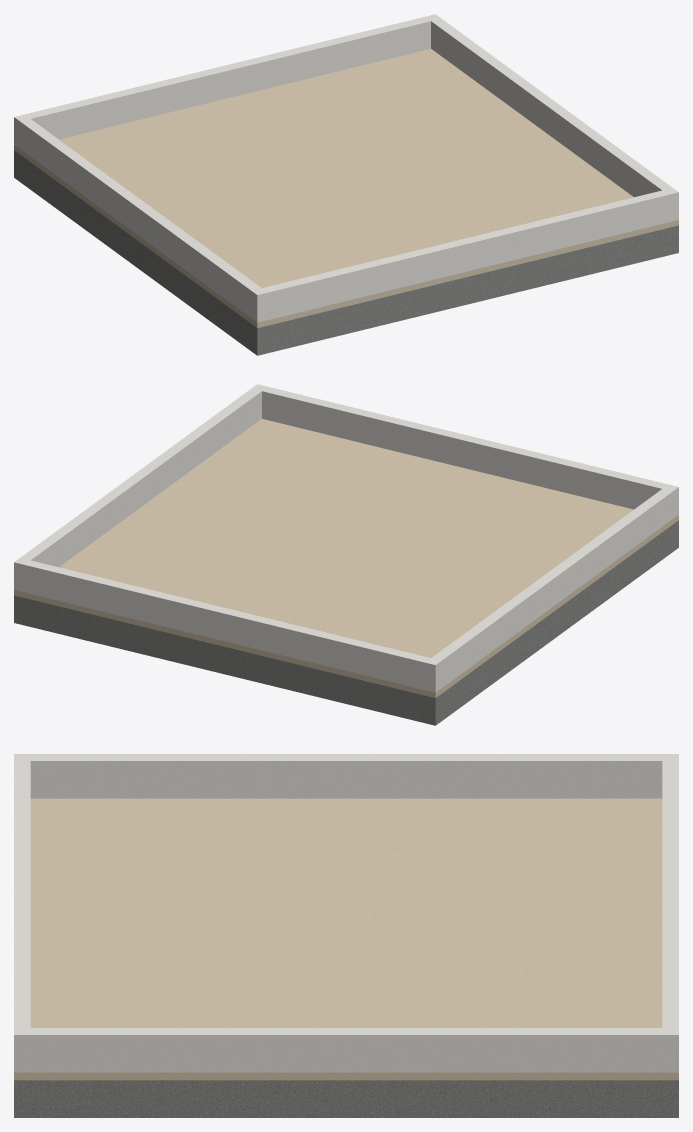
File: estate_roof_flat_5f.glb
3 views of the same model, one above another, from view 1: azimuth 30°, elevation 25°; view 2: azimuth 150°, elevation 25°; view 3: azimuth 270°, elevation 25° (orthographic). The views are drawn at different scales.
Visible parts, largest first — view 1: Cube.001, Cube, Cube.002, Cube.003, Cube.004, Cube.005; view 2: Cube.001, Cube, Cube.003, Cube.002, Cube.004, Cube.005; view 3: Cube.001, Cube.004, Cube.005, Cube, Cube.002, Cube.003.
Boxes of the visible parts, x1,y1,x2,y2 form: Cube.001: [14, 49, 678, 328]; Cube: [14, 150, 678, 355]; Cube.002: [251, 188, 678, 322]; Cube.003: [14, 14, 441, 148]; Cube.004: [20, 119, 261, 317]; Cube.005: [431, 18, 672, 197]; Cube.001: [14, 419, 678, 698]; Cube: [14, 520, 678, 725]; Cube.003: [14, 558, 441, 692]; Cube.002: [251, 384, 678, 518]; Cube.004: [431, 489, 672, 687]; Cube.005: [20, 388, 261, 567]; Cube.001: [14, 798, 678, 1080]; Cube.004: [30, 754, 662, 798]; Cube.005: [30, 1028, 662, 1072]; Cube: [14, 1080, 678, 1117]; Cube.002: [14, 754, 30, 1072]; Cube.003: [662, 754, 678, 1072].
Bounding box in the file's own units: 4 × 0.55 × 4.
3 materials, 3 textured.
